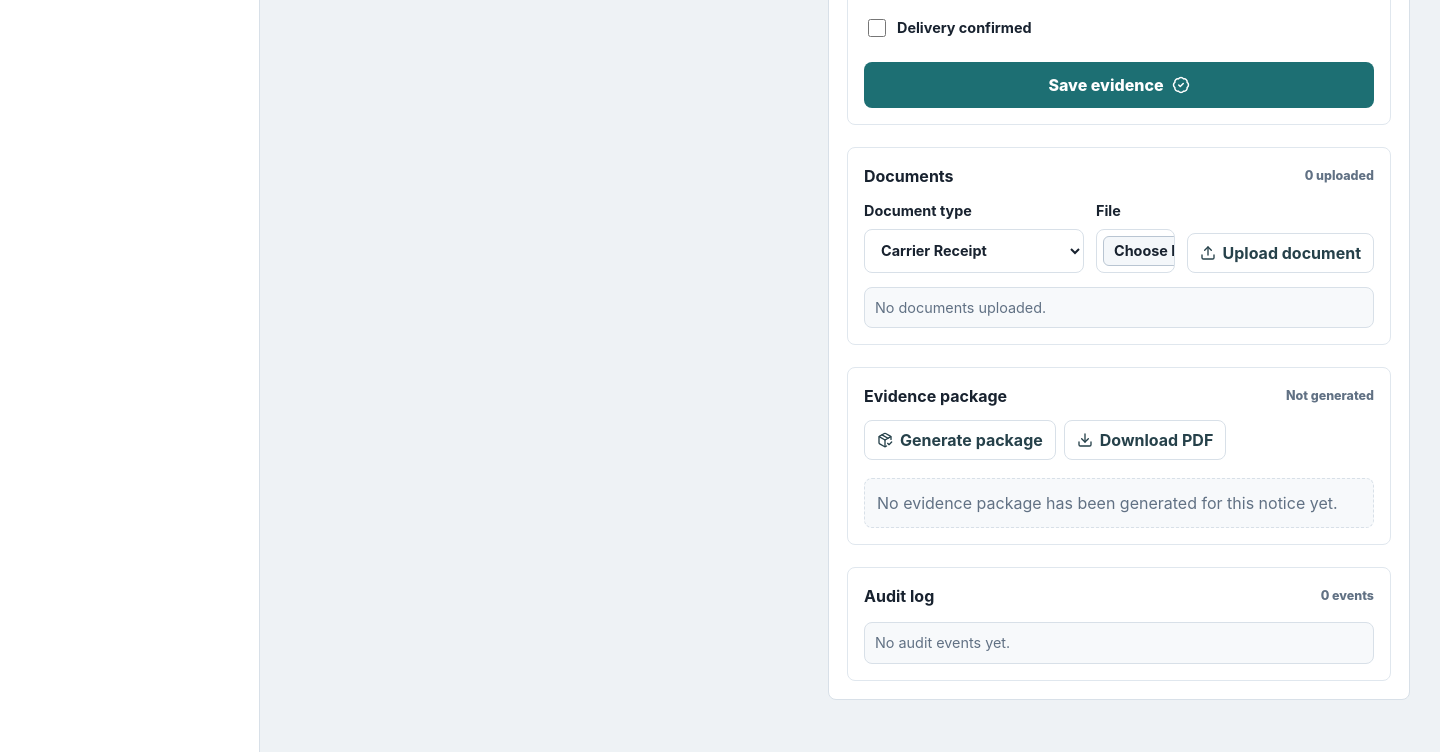
Test case: App auth routes › runs the standalone notice workspace workflow
(page scrolled)
Click the button "Generate package": [960, 440] box [864, 420, 1056, 460]
(page scrolled)
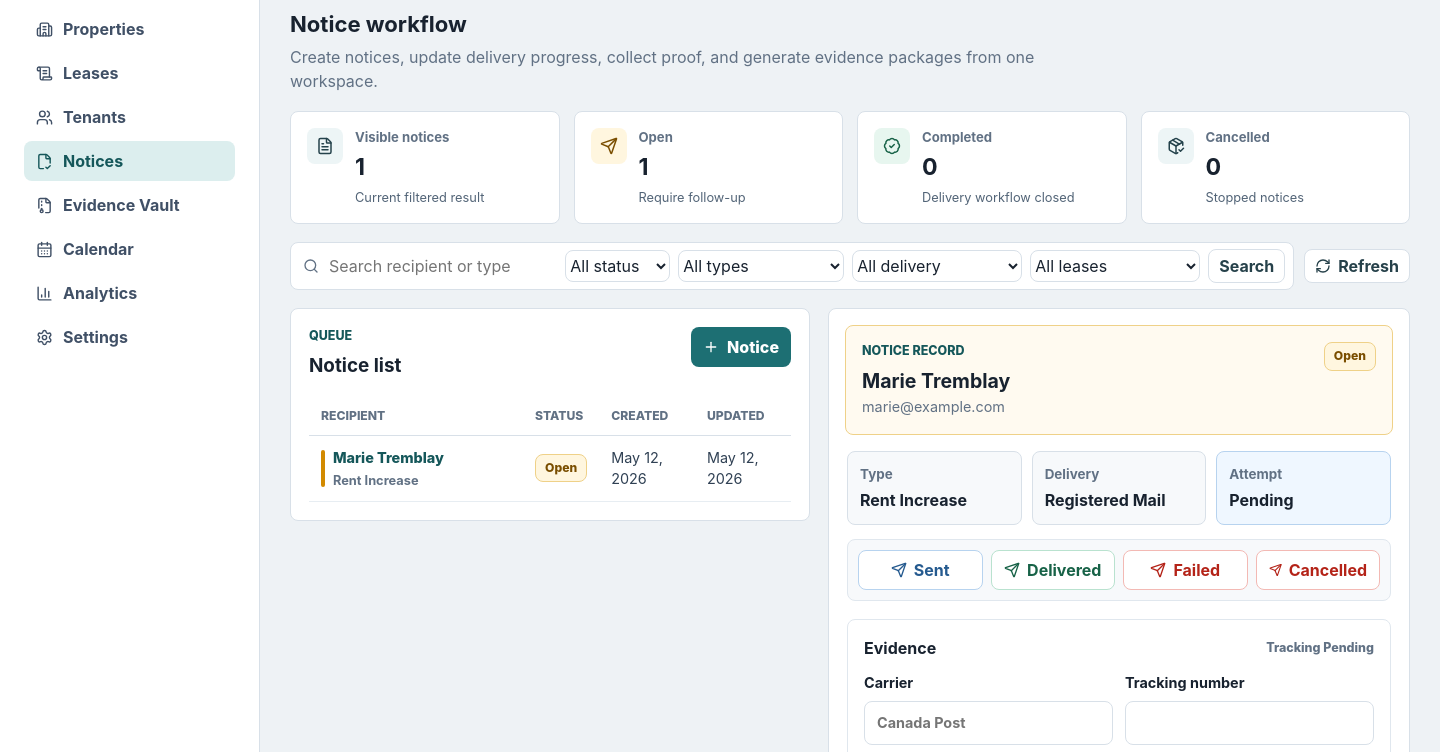
Click the button "Notice": [741, 348] box [691, 328, 791, 368]
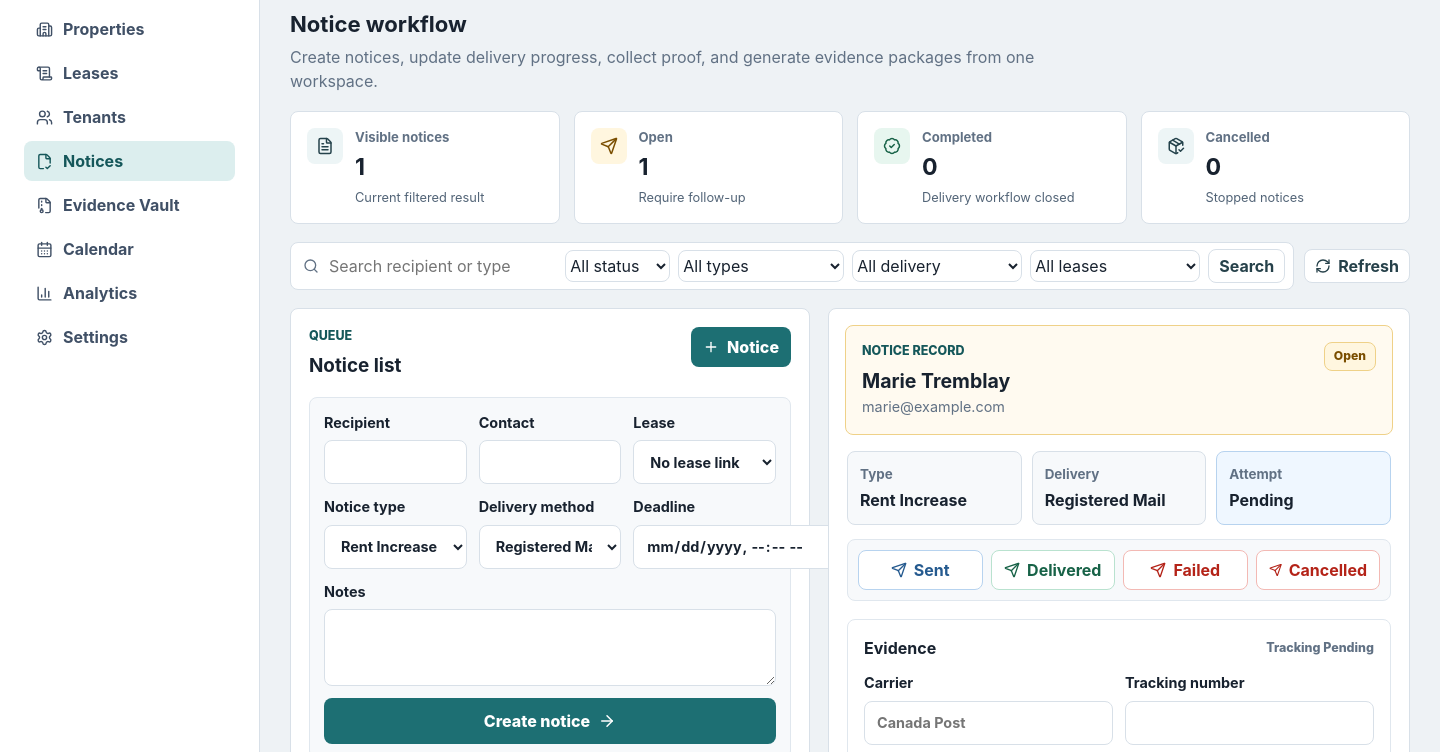
In the field labelled "Recipient": [395, 462] box [324, 440, 467, 484], type "Alex Parker"
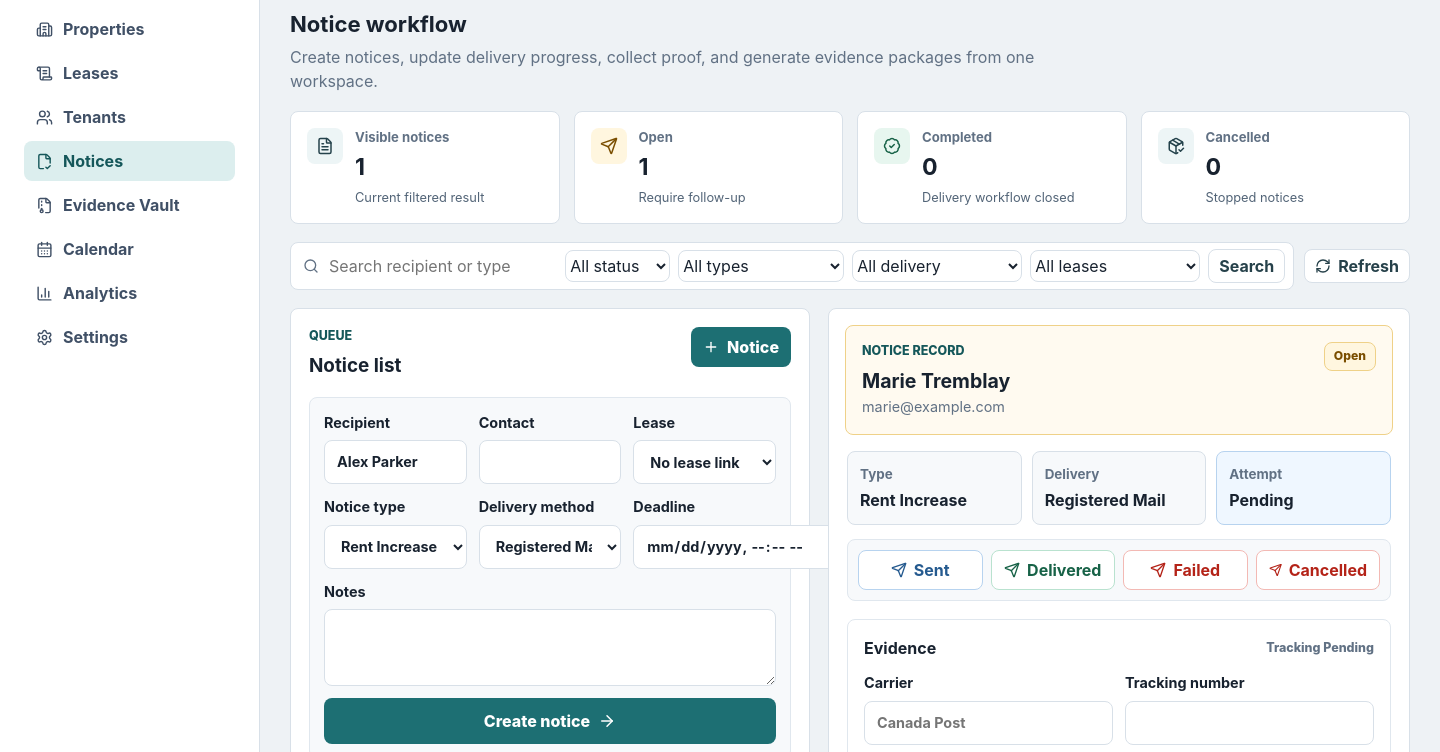
In the field labelled "Contact": [550, 462] box [479, 440, 621, 484], type "alex@example.com"
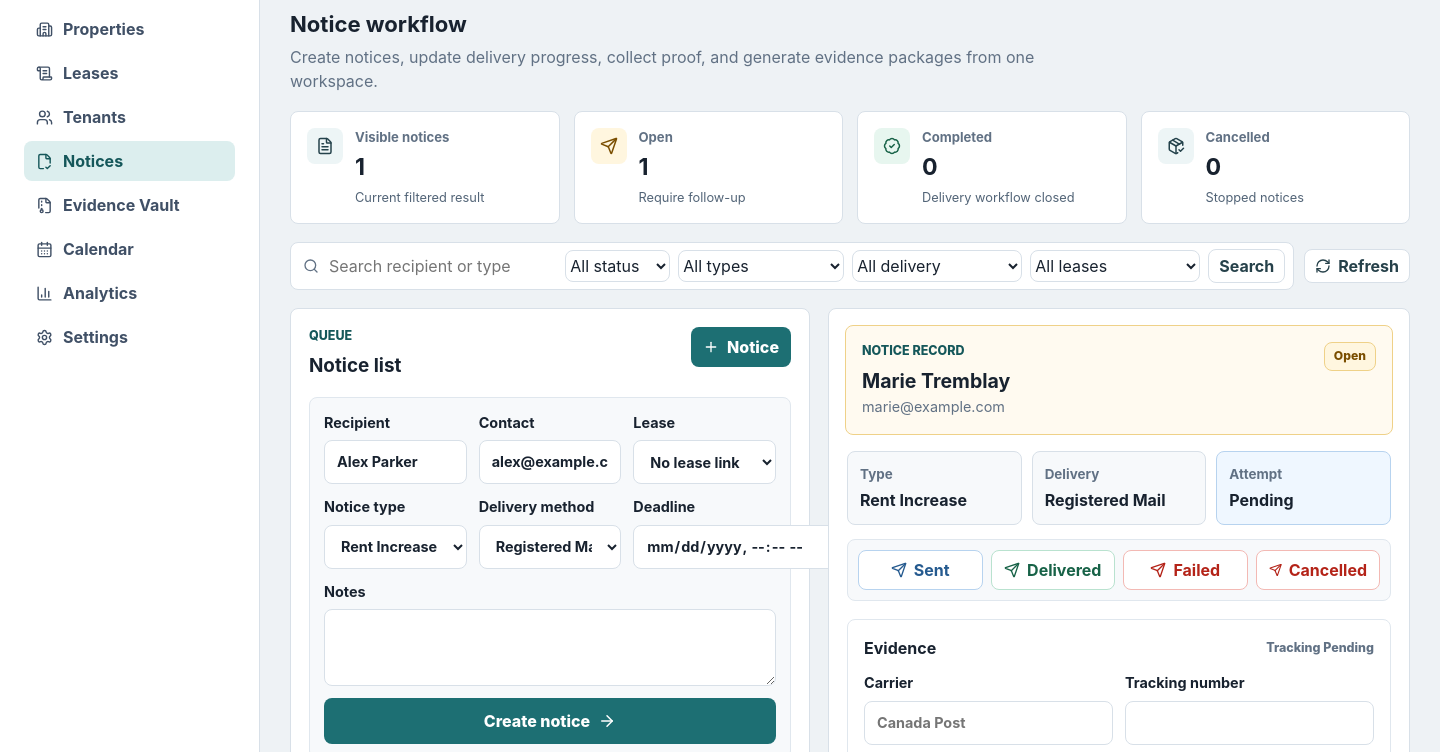
Click the button "Create notice": [550, 721] box [324, 698, 776, 744]
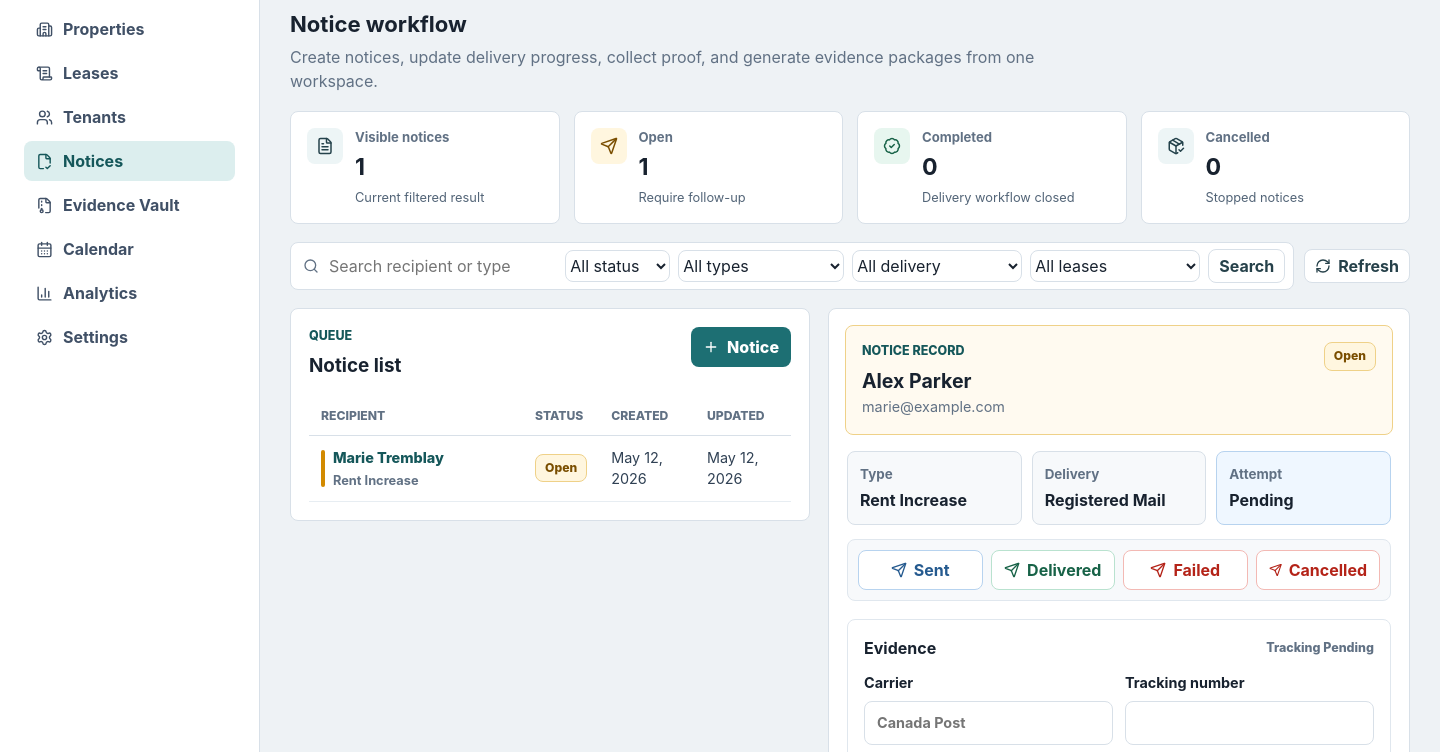
Check: the heading "Alex Parker" is shown, box [862, 369, 972, 393]
